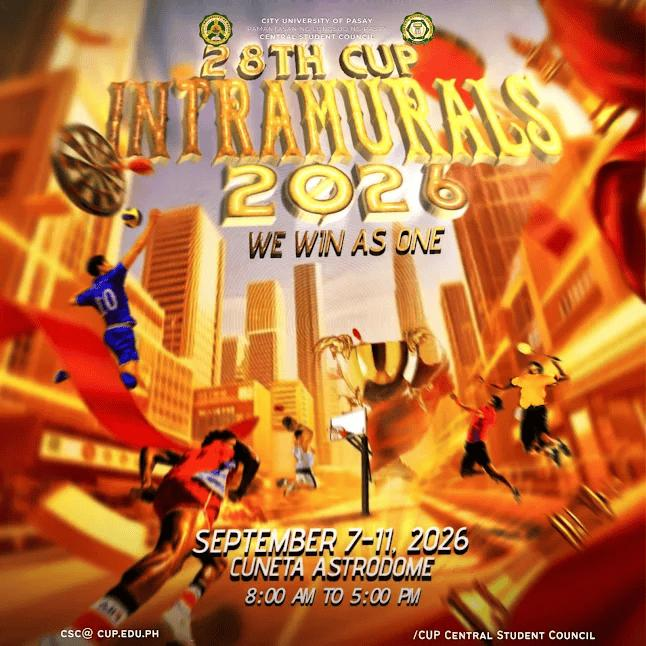logo: (398, 10, 441, 46), (198, 10, 238, 48)
text: (102, 41, 574, 226), (191, 523, 476, 608), (236, 226, 455, 264), (242, 15, 390, 42), (410, 627, 605, 642), (55, 622, 170, 641)
